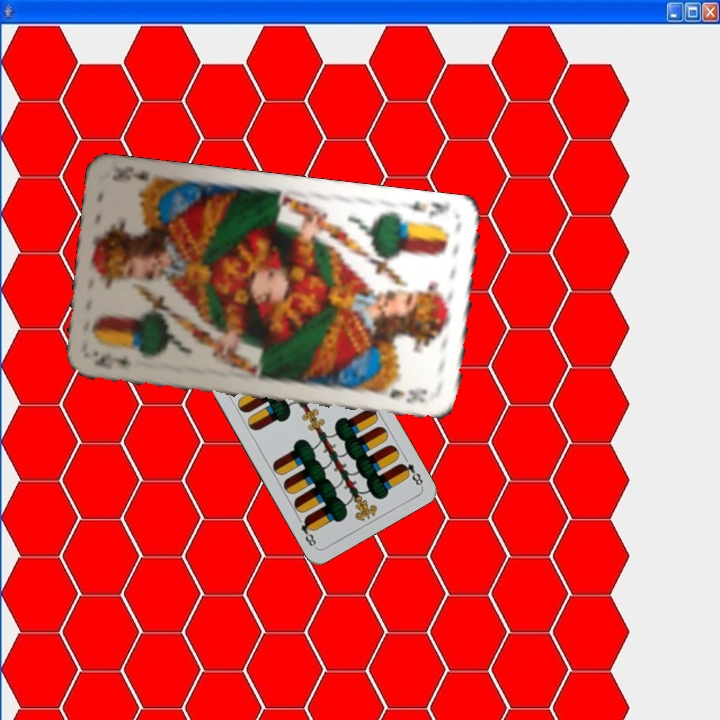E8: (396, 459, 426, 489)
EK: (399, 196, 451, 222), (90, 350, 133, 372)
